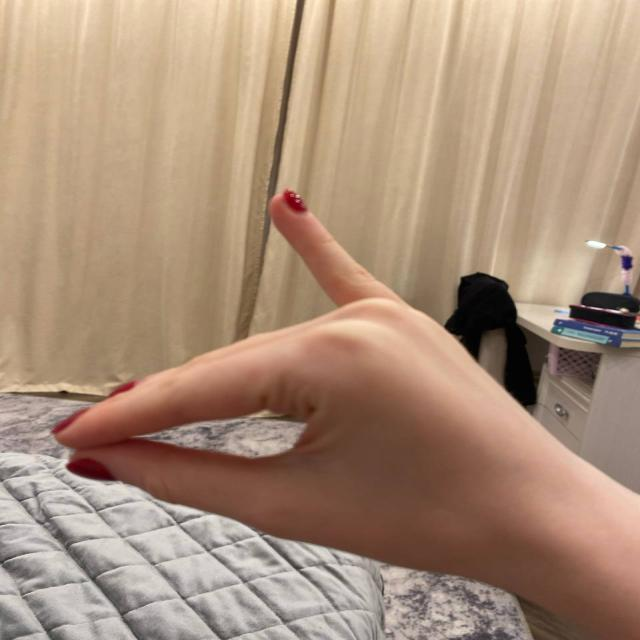iu: (48, 177, 586, 572)
